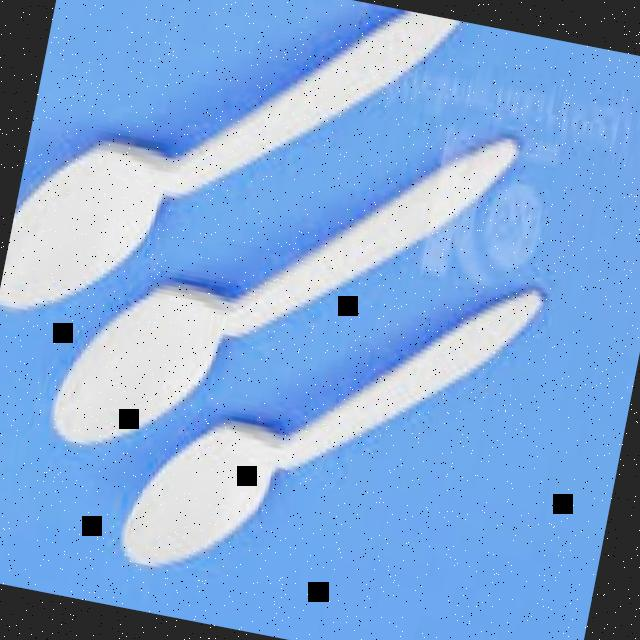plastic_spoon: (0, 0, 594, 630)
